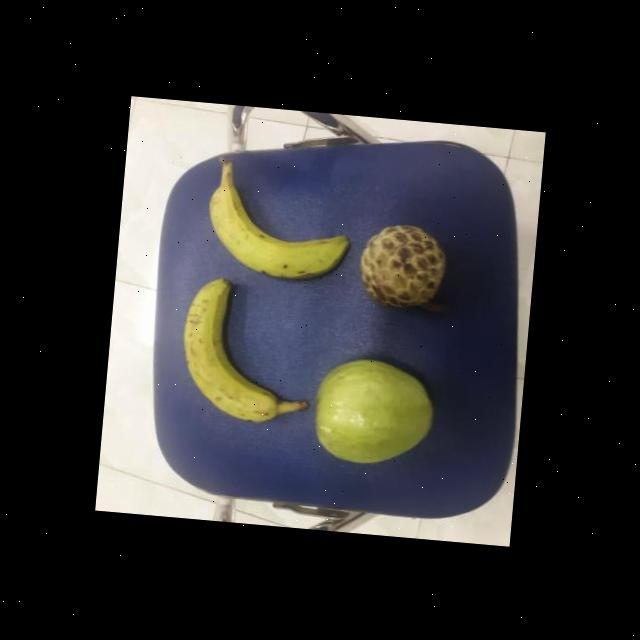Sakya fruit: (354, 218, 450, 312)
banana: (172, 270, 292, 426), (195, 178, 355, 286)
guava: (308, 350, 441, 469)
